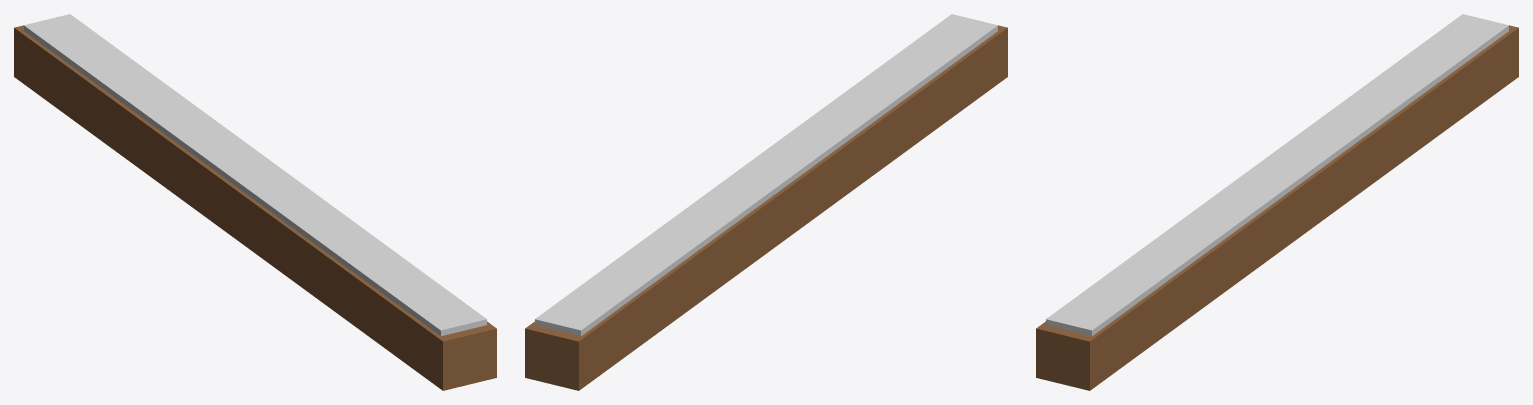
File: plank_1_snow_mat.fbx
3 views of the same model, side by side, from view 1: azimuth 30°, elevation 25°; view 2: azimuth 150°, elevation 25°; view 3: azimuth 330°, elevation 25° (orthographic).
Parts seen in each view (by area): view 1: plank_1_snow_mat; view 2: plank_1_snow_mat; view 3: plank_1_snow_mat.
Boxes of the visible parts, bbox=[...] form: plank_1_snow_mat: bbox=[14, 14, 496, 390]; plank_1_snow_mat: bbox=[525, 14, 1007, 390]; plank_1_snow_mat: bbox=[1036, 14, 1518, 390].
Bounding box in the file's own units: 0.1229 × 0.1204 × 1.7.
